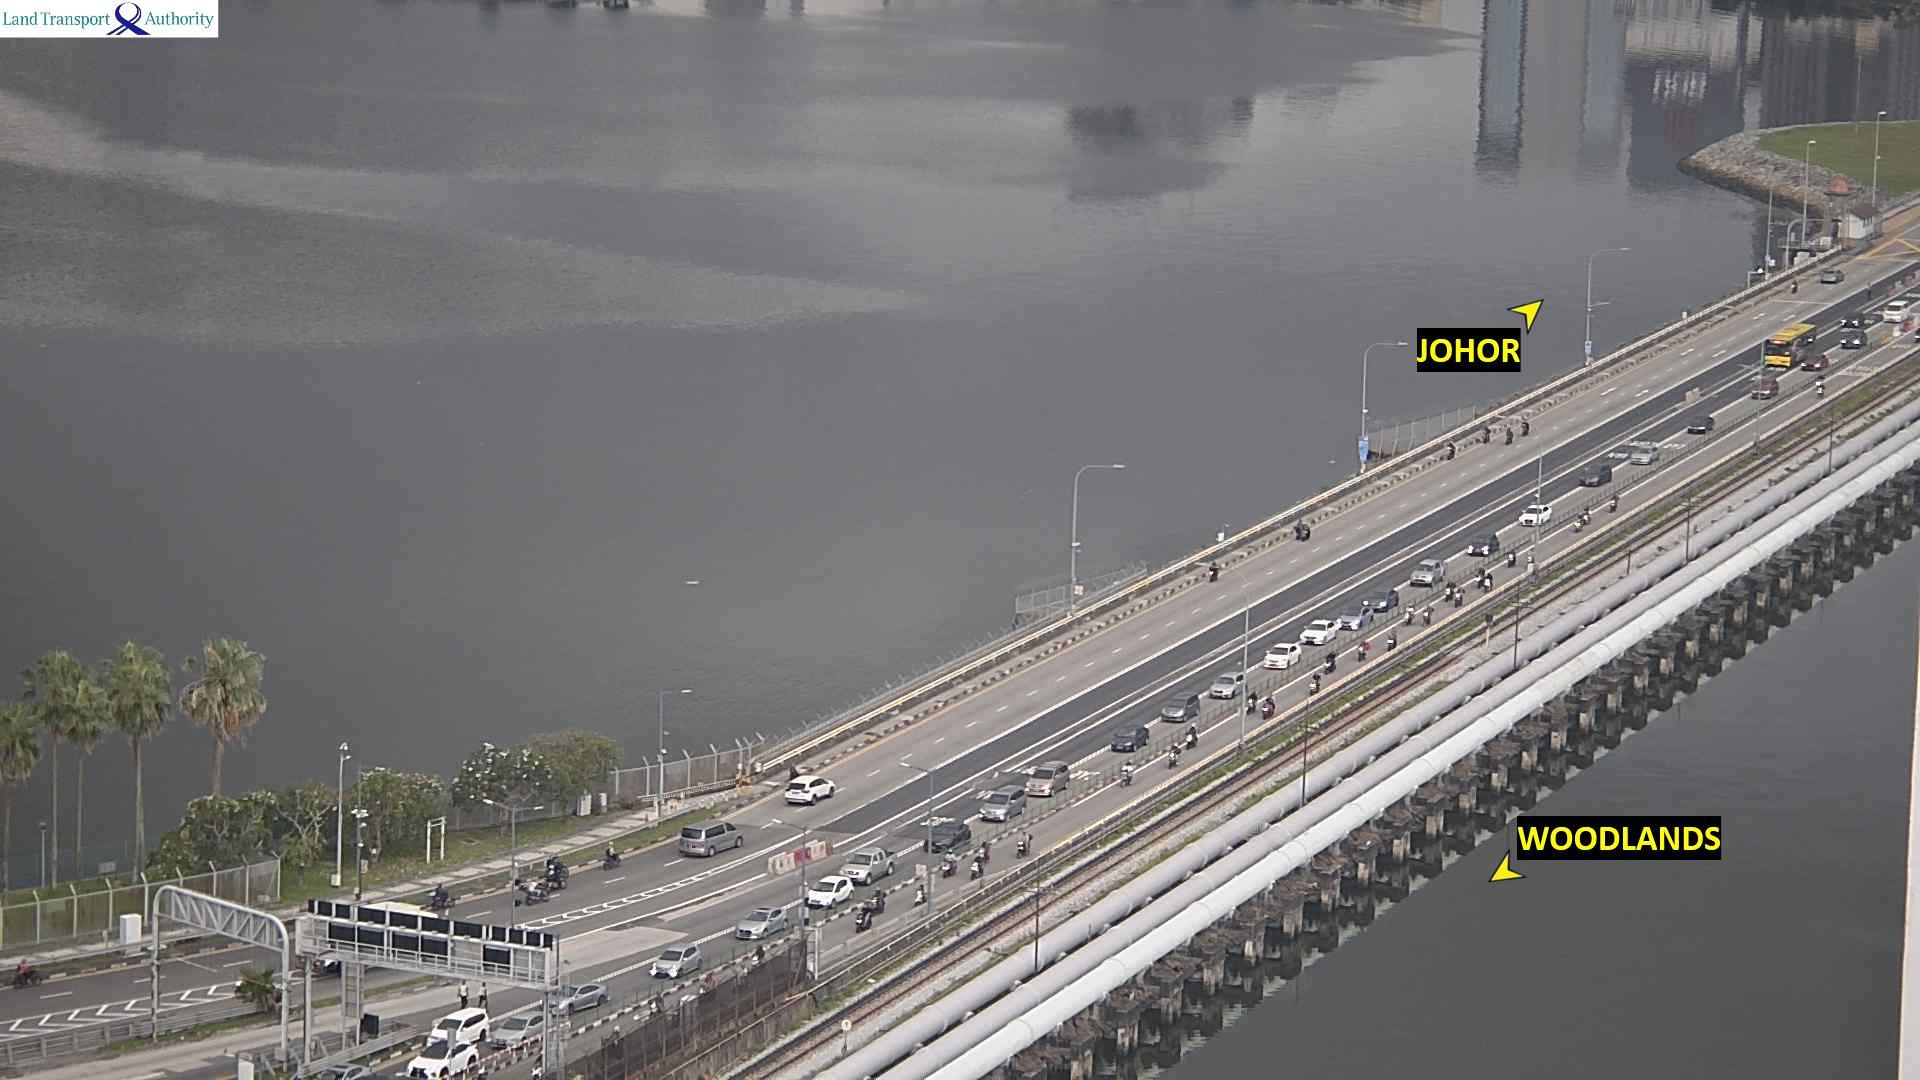vehicle-causeway-johor: (677, 824, 746, 858), (785, 777, 840, 806), (519, 876, 544, 908), (600, 840, 623, 872), (544, 860, 568, 888), (431, 883, 453, 908), (1444, 439, 1458, 465), (1204, 562, 1221, 582), (1292, 524, 1309, 543), (1817, 273, 1838, 287), (1502, 428, 1514, 443), (1482, 425, 1490, 446), (1524, 422, 1530, 434)
vehicle-causeway-singapore: (1764, 323, 1827, 362), (409, 1043, 478, 1077), (427, 1009, 487, 1047), (841, 846, 896, 884), (646, 946, 706, 979), (729, 909, 793, 939), (543, 983, 607, 1012), (920, 821, 971, 853), (805, 880, 859, 910), (979, 785, 1025, 819), (495, 1012, 542, 1043), (1027, 762, 1069, 796), (1205, 671, 1252, 700), (1160, 693, 1201, 721), (1113, 725, 1146, 754), (1307, 622, 1342, 649), (321, 1063, 374, 1080), (1265, 644, 1301, 668), (1414, 557, 1443, 584), (1632, 440, 1660, 465), (1515, 504, 1550, 524), (1468, 532, 1497, 556), (1365, 588, 1397, 609), (1339, 610, 1374, 628), (1884, 300, 1910, 322), (1583, 464, 1610, 483), (1842, 331, 1870, 349), (1800, 355, 1829, 372), (855, 904, 873, 930), (1690, 416, 1714, 435), (1753, 378, 1775, 398), (940, 851, 956, 876), (866, 889, 883, 911), (974, 843, 991, 863), (1471, 567, 1488, 586), (967, 859, 982, 880), (1841, 312, 1865, 325), (1016, 832, 1029, 856), (1119, 759, 1132, 783), (1324, 651, 1336, 675), (1420, 606, 1433, 625), (1261, 697, 1272, 719), (1309, 674, 1320, 696), (915, 883, 925, 907), (1385, 632, 1396, 652), (1169, 744, 1178, 767), (1484, 574, 1494, 594), (1246, 691, 1256, 709), (1404, 603, 1414, 621), (1445, 581, 1455, 599), (1454, 591, 1462, 611), (1574, 514, 1583, 530), (1358, 643, 1366, 660), (1190, 723, 1195, 747), (1610, 495, 1616, 513), (1508, 549, 1515, 563), (1584, 507, 1591, 521)
